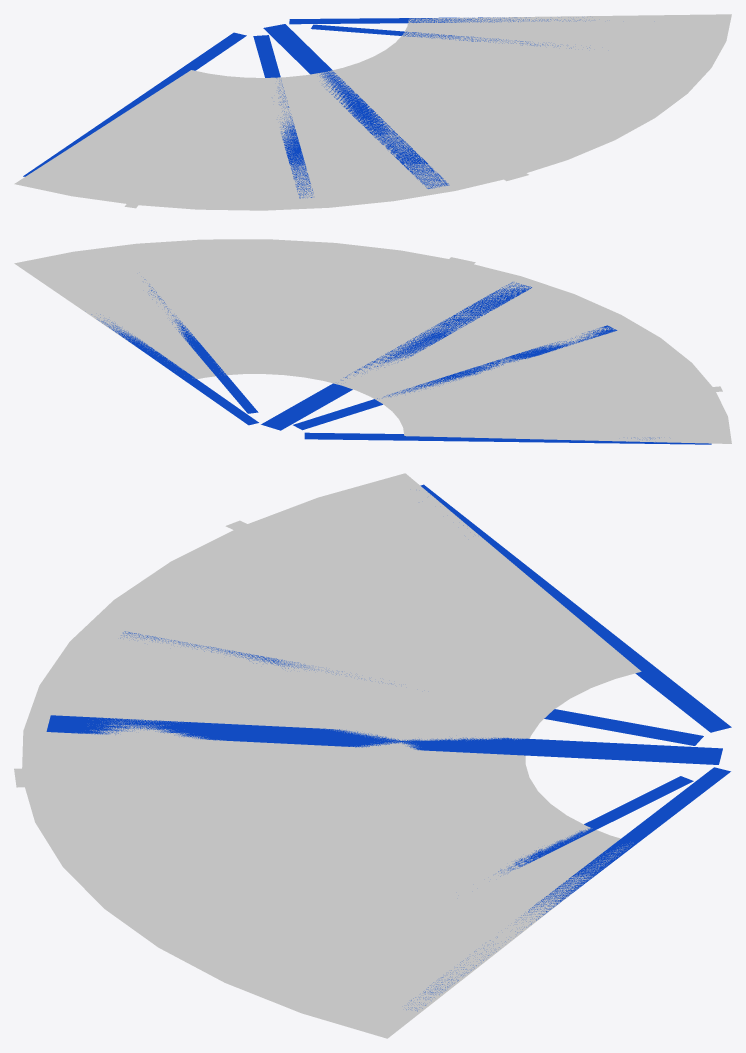
Rendered from pref_fx_Jigglypuff_spell01B_bullet_01_lv1.fbx.
The picture shows the model from 3 angles, top to bottom: view 1: azimuth 30°, elevation 25°; view 2: azimuth 150°, elevation 25°; view 3: azimuth 270°, elevation 25°; orthographic projection. The views are drawn at different scales.
Visible parts, largest first — view 1: saoguang_rainbow (2); view 2: saoguang_rainbow (2); view 3: saoguang_rainbow (2).
Boxes of the visible parts, box(x1,y1,x2,y2) form: saoguang_rainbow (2): box(14, 14, 731, 210); saoguang_rainbow (2): box(14, 239, 731, 444); saoguang_rainbow (2): box(14, 473, 731, 1038).
Size of the model in its own units: 7.33 by 1.84e-07 by 3.93.
